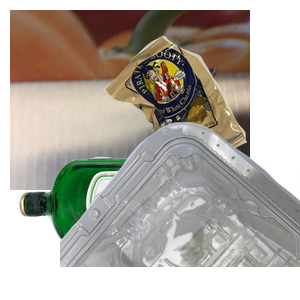cardboard: (10, 10, 250, 190)
glass: (14, 150, 247, 300)
plastic: (60, 120, 300, 300)
trash: (101, 33, 300, 206)
